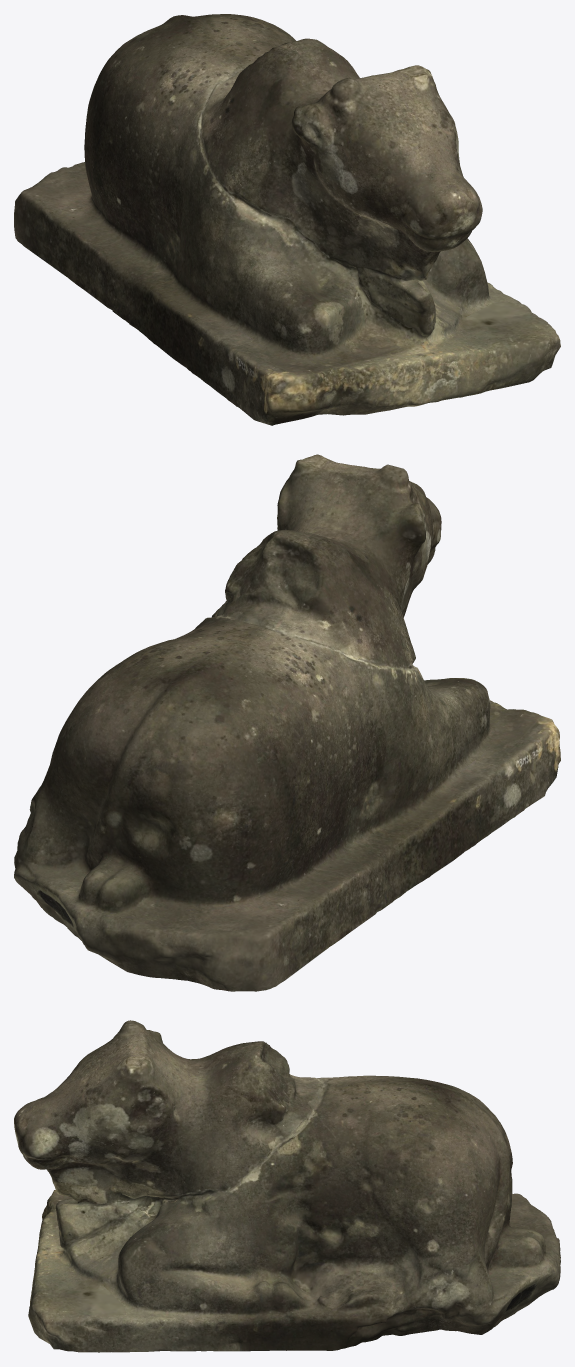
Rendered from MysonMuseum_BothanNandin_final.glb.
3 renders of one model, top to bottom at view 1: azimuth 30°, elevation 25°; view 2: azimuth 150°, elevation 25°; view 3: azimuth 270°, elevation 25°, orthographic. The views are drawn at different scales.
Size of the model in its own units: 0.4486 by 0.44 by 0.8426.
Materials: 1 (1 with a texture image).
